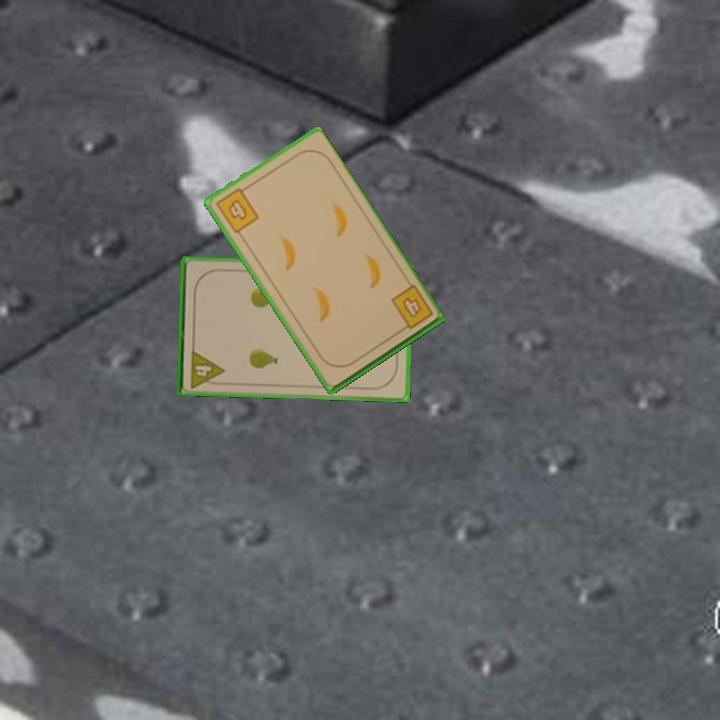4b: (212, 182, 262, 236), (387, 282, 436, 335)
4p: (187, 346, 226, 391)
